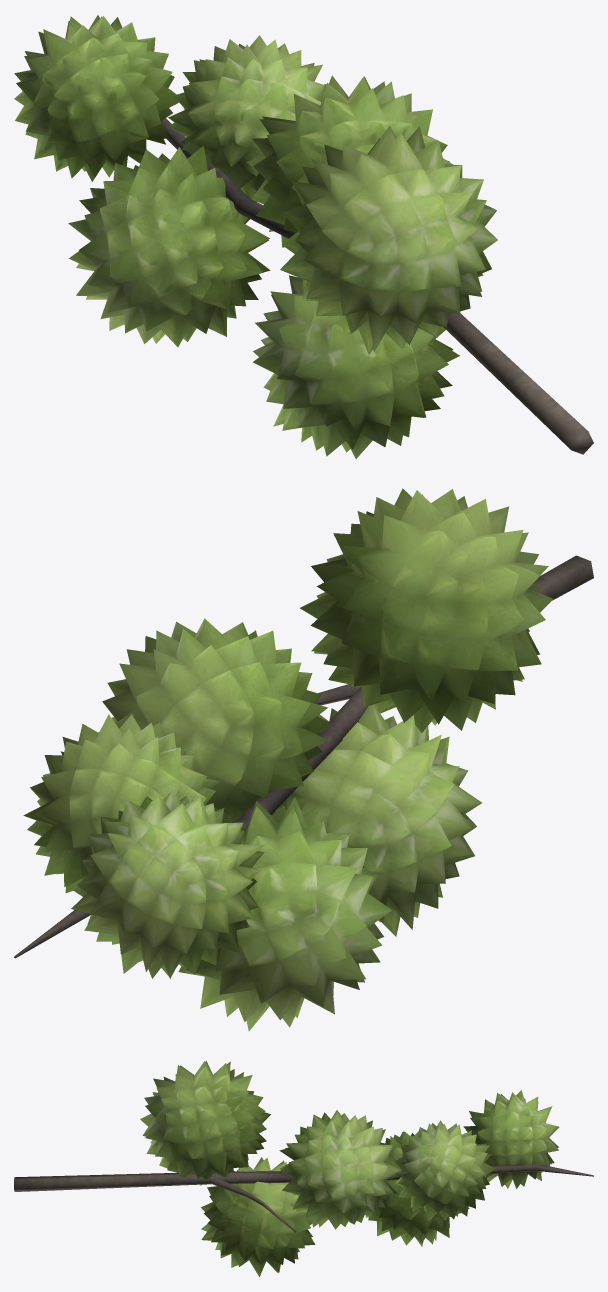
The model's file is Castanopsis Fruit.fbx.
3 views of the same model, one above another, from view 1: azimuth 30°, elevation 25°; view 2: azimuth 150°, elevation 25°; view 3: azimuth 270°, elevation 25° (orthographic). The views are drawn at different scales.
Visible parts, largest first — view 1: Fruit_LOD0; view 2: Fruit_LOD0; view 3: Fruit_LOD0.
Boxes of the visible parts, x1,y1,x2,y2 form: Fruit_LOD0: [14, 15, 593, 458]; Fruit_LOD0: [14, 488, 593, 1031]; Fruit_LOD0: [14, 1060, 593, 1276].
Size of what is drawn, in the model's own units: 12.31 by 13.52 by 34.89.
Materials: 1 (1 with a texture image).
